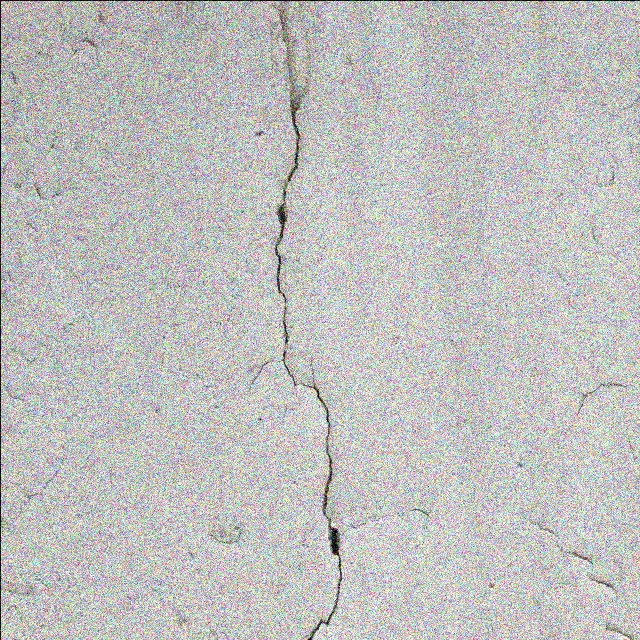SurfaceCrack: (227, 0, 391, 640)
